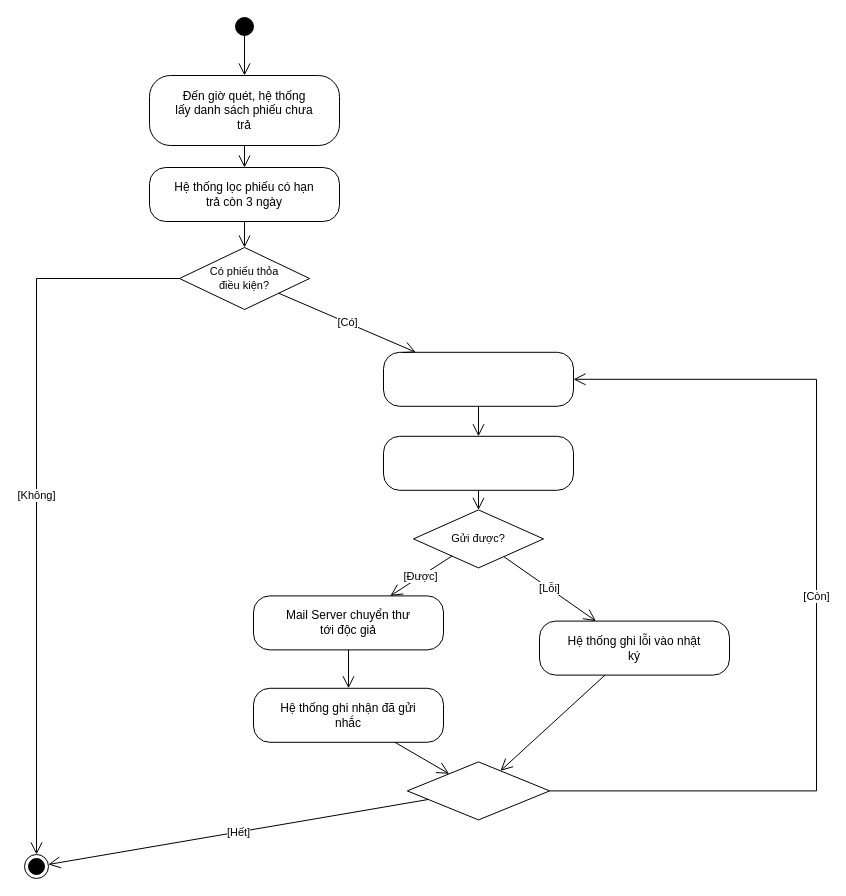
This 846x896 diagram has some shape labels left out. Each missing label, with the box of its shape:
Còn phiếu khác?: (406, 761, 550, 820)
Hệ thống gửi thư qua Mail Server: (382, 435, 574, 490)
Hệ thống lấy email độc giả, tạo nội dung thư: (382, 351, 574, 406)
